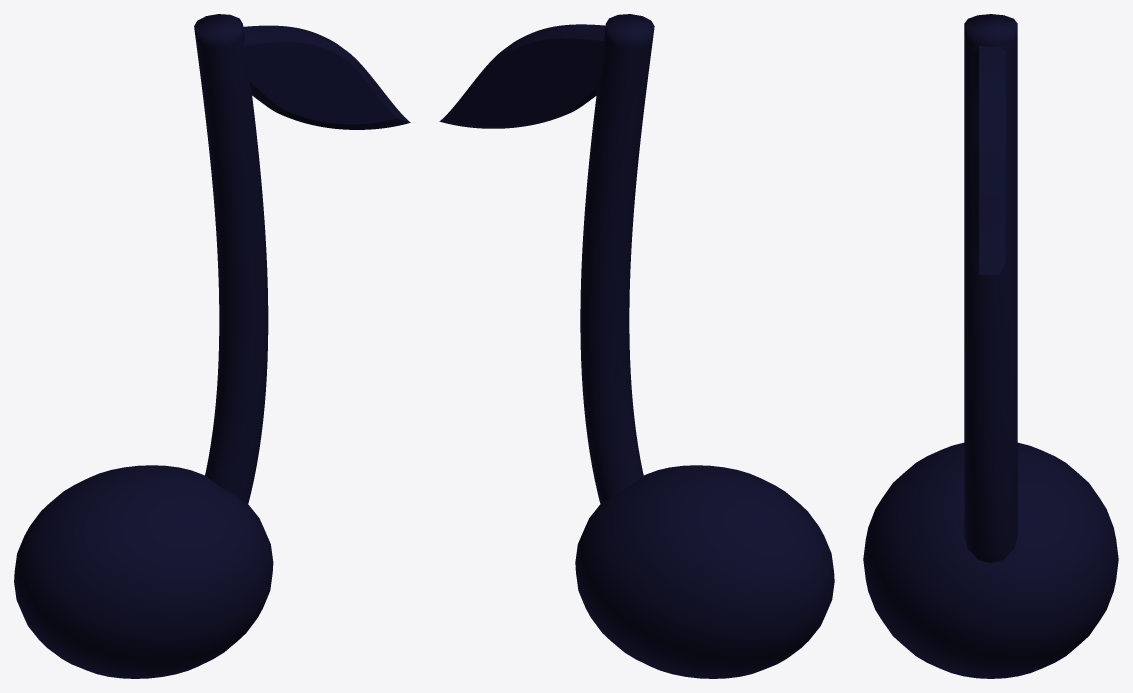
Rendered from NUTKA.fbx.
3 renders of one model, left to right at view 1: azimuth 30°, elevation 25°; view 2: azimuth 150°, elevation 25°; view 3: azimuth 270°, elevation 25°, orthographic. The views are drawn at different scales.
Parts seen in each view (by area): view 1: Sphere; view 2: Sphere; view 3: Sphere.
Part boxes in pixels (bbox=[...]): Sphere: bbox=[14, 14, 410, 678]; Sphere: bbox=[439, 14, 834, 678]; Sphere: bbox=[863, 14, 1118, 678].
Size of the model in its own units: 125 by 197 by 67.06.
